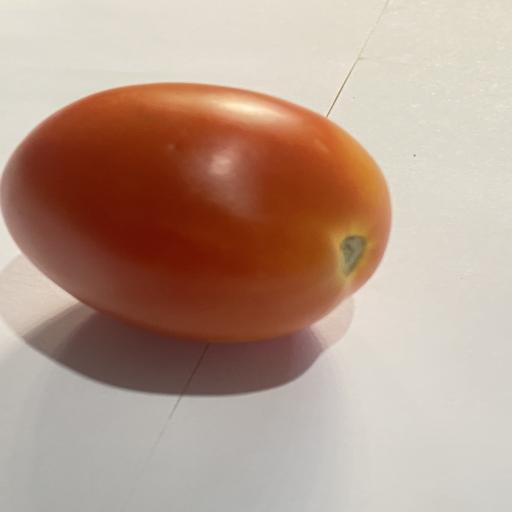ripe: (1, 83, 391, 342)
